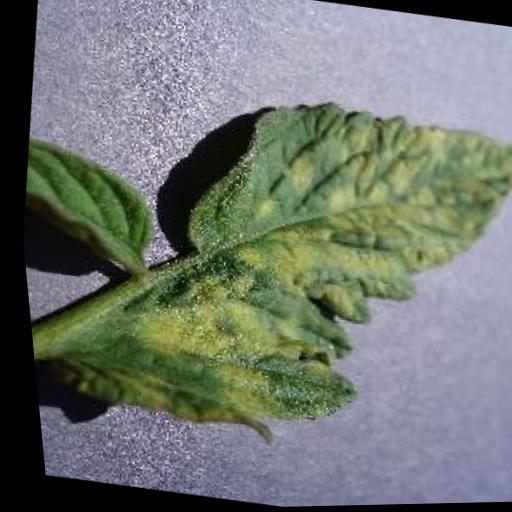Healthy: (10, 130, 165, 274)
Leaf Mold: (29, 61, 512, 477)
